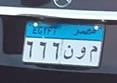6: (38, 40, 47, 60), (52, 41, 61, 60), (26, 40, 34, 58)
meem: (88, 44, 98, 64)
noon: (63, 44, 74, 60)
waw: (75, 46, 86, 62)
